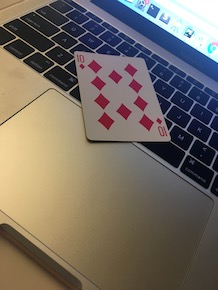TenOfDiamonds: (72, 48, 173, 143)
